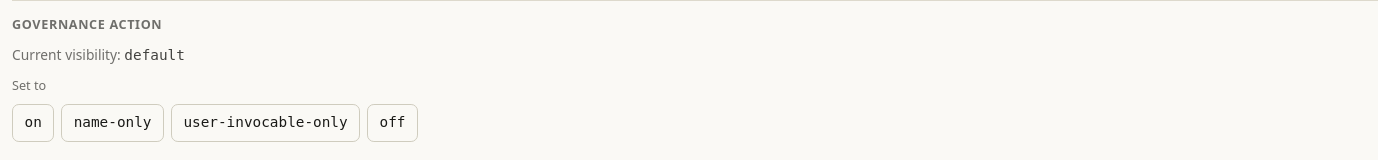
Test case: SkillVisibilityControl › no-op (alreadyInState): shows nothing-to-write message and no Confirm button
Click the button "off".
click(392, 123)  # box 367,104 -> 418,142
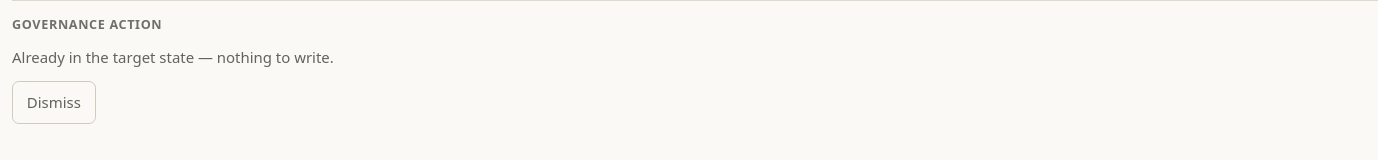
expect the text "Already in the target state — nothing to write." is shown: met, box 12,47 -> 334,67
expect the button "Dismiss" is shown: met, box 12,81 -> 96,124
